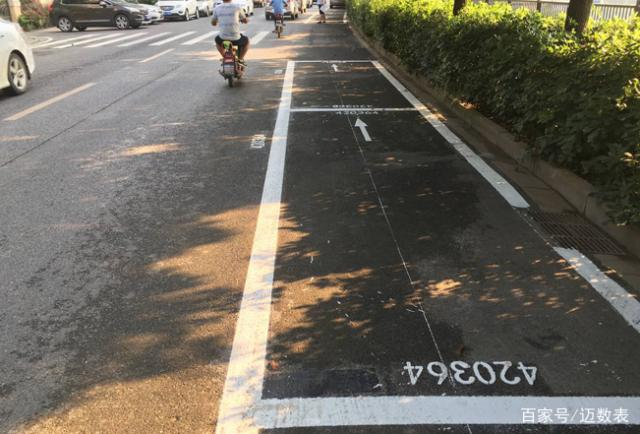slot_nocar: (197, 100, 640, 432), (272, 49, 428, 119)
